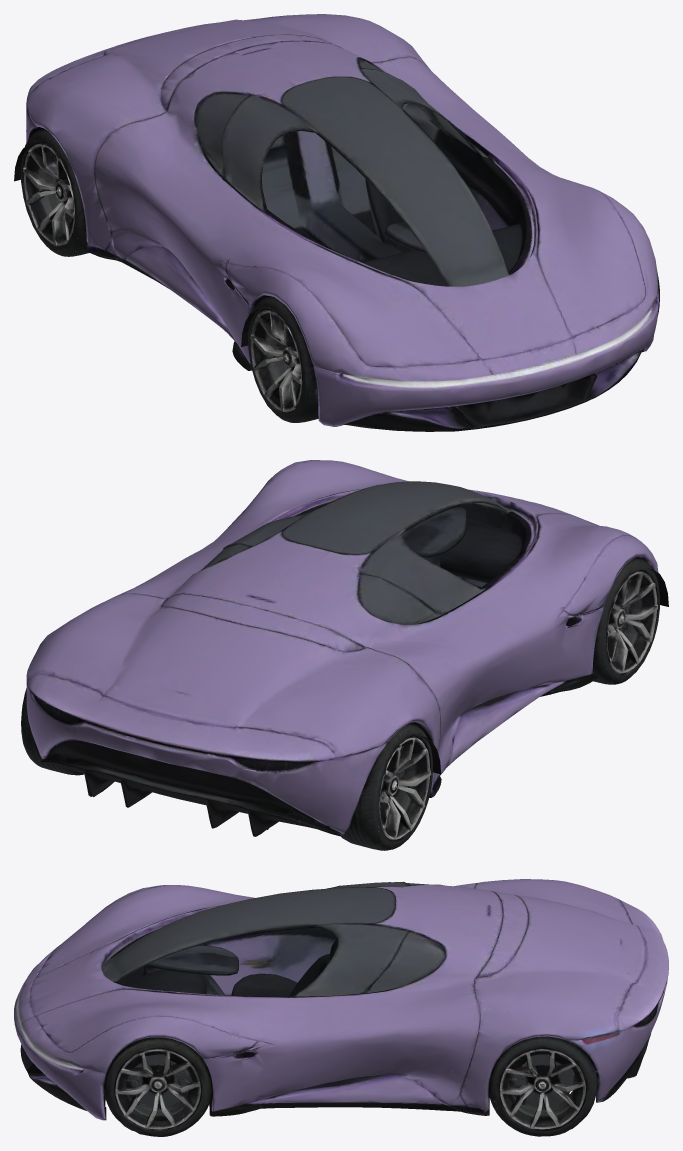
Rendered from car_super.glb.
3 views of the same model, one above another, from view 1: azimuth 30°, elevation 25°; view 2: azimuth 150°, elevation 25°; view 3: azimuth 270°, elevation 25° (orthographic). The views are drawn at different scales.
Visible parts, largest first — view 1: body, wheel_FR, wheel_RR; view 2: body, wheel_FR, wheel_RR; view 3: body, wheel_FL, wheel_RL.
Boxes of the visible parts, x1=… form: body: x1=21, y1=14, x2=659, y2=431; wheel_FR: x1=248, y1=312, x2=318, y2=422; wheel_RR: x1=23, y1=146, x2=81, y2=256; body: x1=21, y1=460, x2=659, y2=850; wheel_FR: x1=603, y1=572, x2=659, y2=684; wheel_RR: x1=377, y1=739, x2=432, y2=849; body: x1=14, y1=879, x2=668, y2=1136; wheel_FL: x1=108, y1=1051, x2=205, y2=1136; wheel_RL: x1=494, y1=1051, x2=590, y2=1136.
Size of the model in its own units: 2.51 by 1.29 by 4.6.
Materials: 2 (1 with a texture image).
